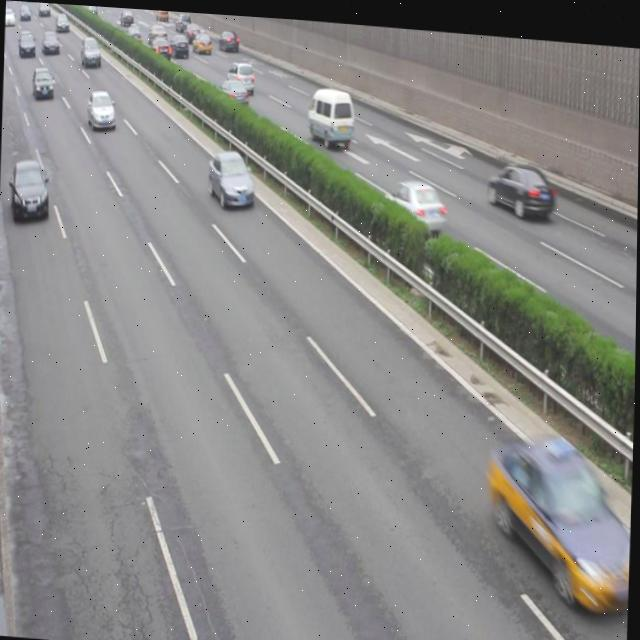car: (487, 426, 619, 599), (486, 151, 555, 215), (381, 171, 446, 233), (207, 143, 254, 210), (9, 157, 51, 223), (87, 87, 117, 131), (218, 74, 249, 113)
truck: (305, 81, 355, 143)
